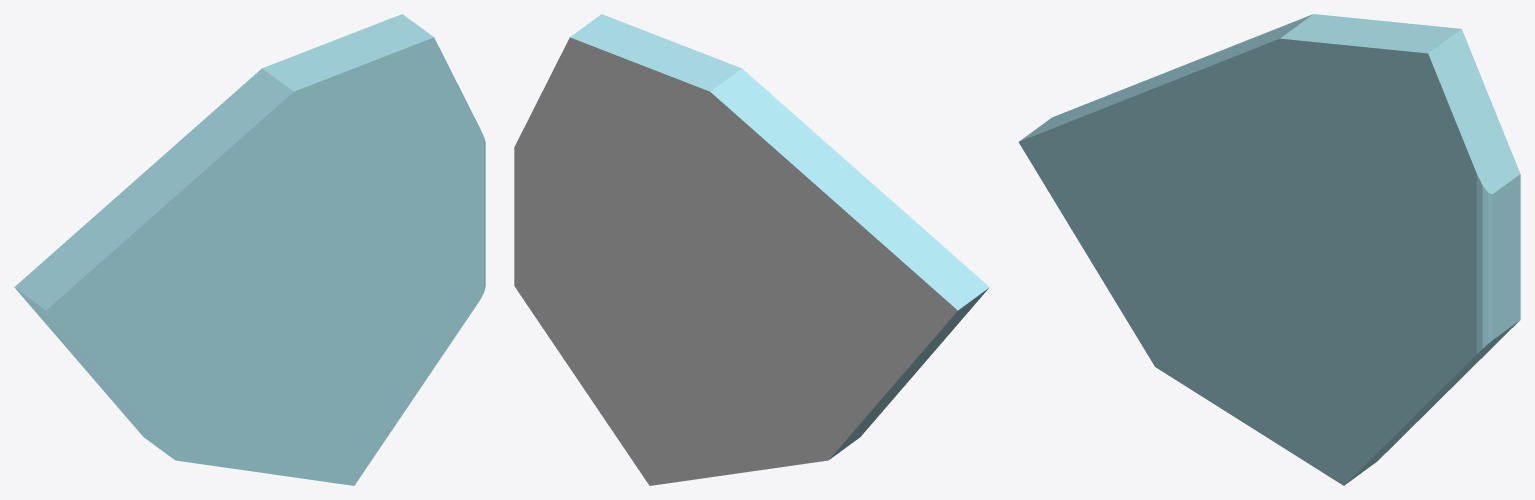
The model's file is chrome4.glb.
The picture shows the model from 3 angles, left to right: view 1: azimuth 30°, elevation 25°; view 2: azimuth 150°, elevation 25°; view 3: azimuth 330°, elevation 25°; orthographic projection. The views are drawn at different scales.
Visible parts, largest first — view 1: Plane.005; view 2: Plane.005; view 3: Plane.005.
Boxes of the visible parts, box(x1,y1,x2,y2) form: Plane.005: box(14, 14, 485, 485); Plane.005: box(514, 14, 989, 485); Plane.005: box(1018, 14, 1520, 485).
Bounding box in the file's own units: 40.18 × 37.13 × 5.
